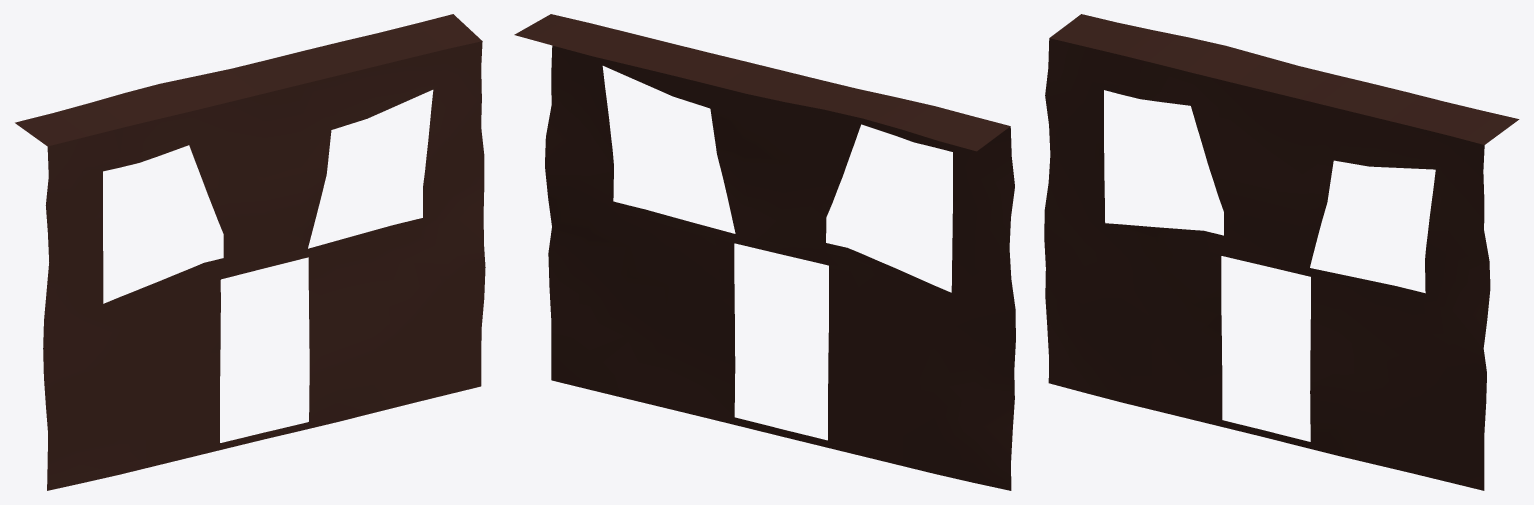
Rendered from haus11221.fbx.
The picture shows the model from 3 angles, left to right: view 1: azimuth 30°, elevation 25°; view 2: azimuth 150°, elevation 25°; view 3: azimuth 330°, elevation 25°; orthographic projection. The views are drawn at different scales.
Parts seen in each view (by area): view 1: Krychle; view 2: Krychle; view 3: Krychle.
Part boxes in pixels (x1,y1,x2,y2): Krychle: [15, 14, 485, 490]; Krychle: [514, 14, 1015, 490]; Krychle: [1044, 14, 1519, 490].
Bounding box in the file's own units: 659 × 498 × 88.06.
